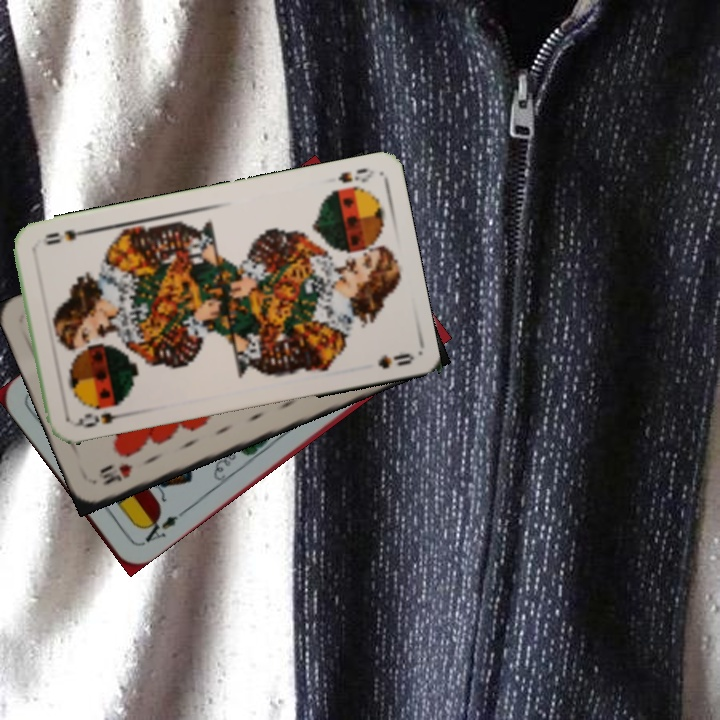EA: (136, 507, 187, 549)
H10: (95, 459, 136, 488)
SO: (71, 408, 129, 431), (334, 164, 377, 186)
